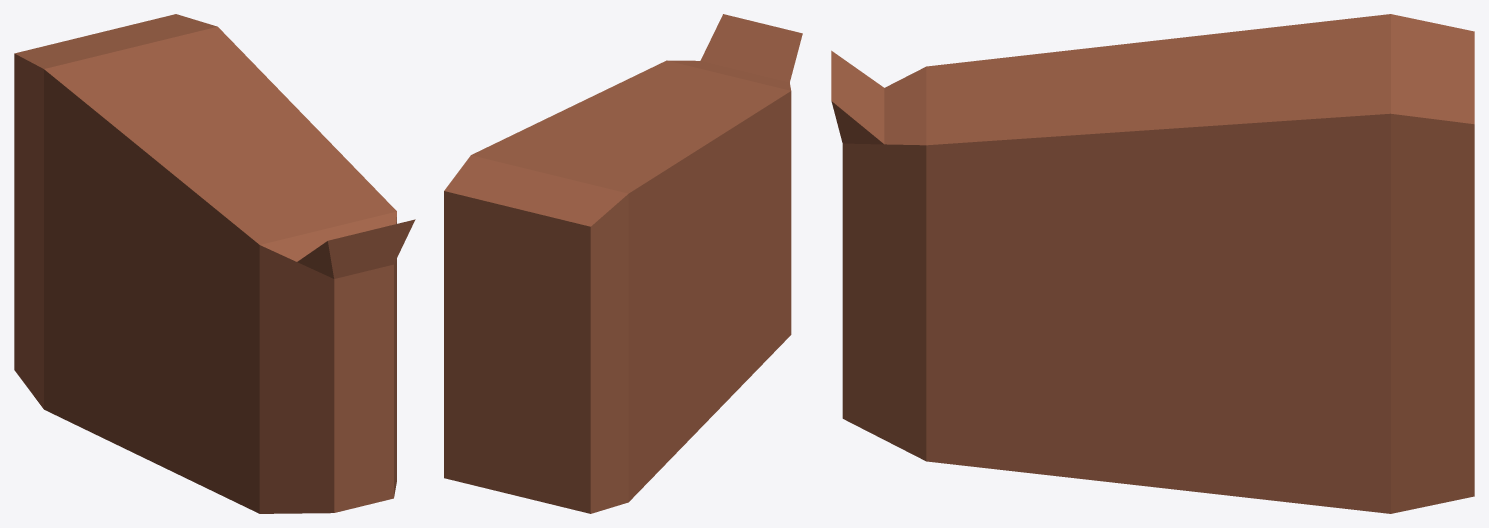
The model's file is bag.obj.
The picture shows the model from 3 angles, left to right: view 1: azimuth 30°, elevation 25°; view 2: azimuth 150°, elevation 25°; view 3: azimuth 270°, elevation 25°; orthographic projection. The views are drawn at different scales.
Visible parts, largest first — view 1: bag.000_bag.003; view 2: bag.000_bag.003; view 3: bag.000_bag.003.
Boxes of the visible parts, box(x1,y1,x2,y2) form: bag.000_bag.003: box(14, 14, 415, 513); bag.000_bag.003: box(444, 14, 802, 513); bag.000_bag.003: box(831, 14, 1474, 513).
Size of the model in its own units: 0.1101 by 0.2059 by 0.2999.
